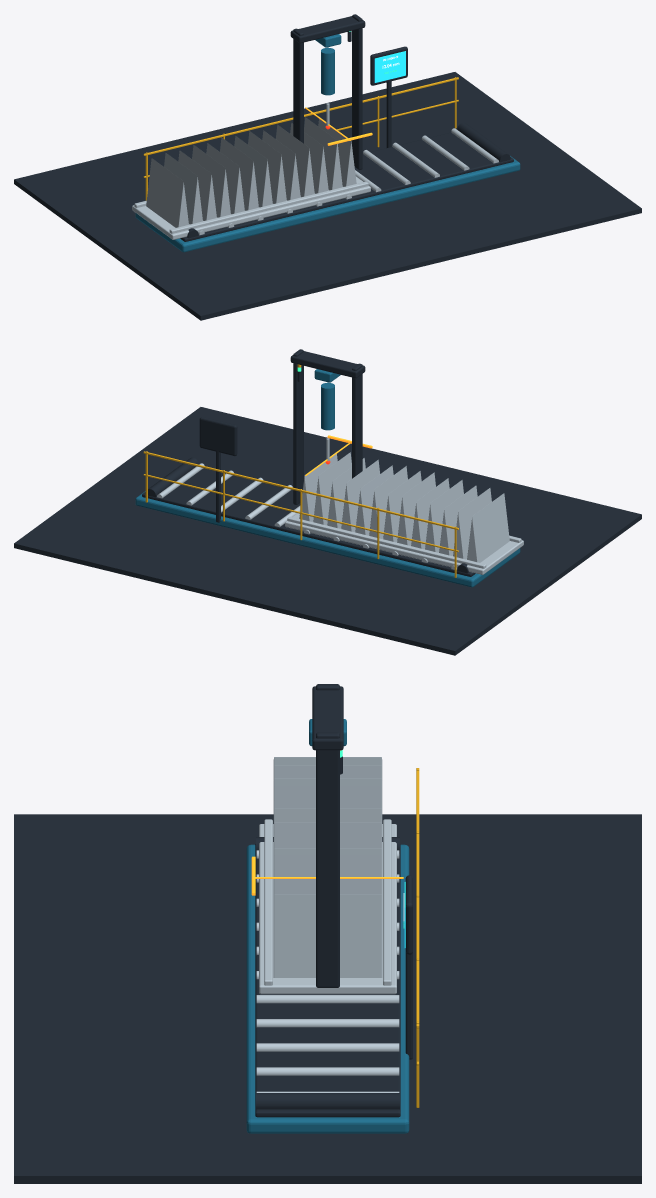
File: contact_lvdt_station.glb
The picture shows the model from 3 angles, top to bottom: view 1: azimuth 30°, elevation 25°; view 2: azimuth 150°, elevation 25°; view 3: azimuth 270°, elevation 25°; orthographic projection. The views are drawn at different scales.
Visible parts, largest first — view 1: Factory floor, Moving belt, Conveyor chassis, Triangular fin 01, Radiator pallet, Fixed C-frame post.001, Front header, Fixed C-frame post, Triangular fin 06, Triangular fin 04, Triangular fin 10, Triangular fin 08 (+14 smaller); view 2: Factory floor, Moving belt, Conveyor chassis, Triangular fin 01, Radiator pallet, Fixed C-frame post.001, HMI housing, Fixed C-frame post, Rear header, Triangular fin 06, Triangular fin 12, Triangular fin 10 (+14 smaller); view 3: Factory floor, Moving belt, Conveyor chassis, Triangular fin 13, Fixed C-frame post.001, Radiator pallet, End roller.001, Fixed measurement crossbeam, Front header, Rear header, Triangular fin 12, Triangular fin 08 (+12 smaller).
Part boxes in pixels (<box>): Factory floor: <box>14,72,641,320</box>; Moving belt: <box>180,132,513,241</box>; Conveyor chassis: <box>135,156,520,252</box>; Triangular fin 01: <box>146,158,188,227</box>; Radiator pallet: <box>132,176,370,239</box>; Fixed C-frame post.001: <box>352,14,362,169</box>; Front header: <box>169,181,368,233</box>; Fixed C-frame post: <box>293,28,303,143</box>; Triangular fin 06: <box>220,137,258,210</box>; Triangular fin 04: <box>192,145,230,217</box>; Triangular fin 10: <box>276,124,314,197</box>; Triangular fin 08: <box>248,131,286,203</box>; Factory floor: <box>14,407,641,655</box>; Moving belt: <box>142,468,475,576</box>; Conveyor chassis: <box>135,491,520,587</box>; Triangular fin 01: <box>467,493,509,562</box>; Radiator pallet: <box>285,511,523,574</box>; Fixed C-frame post.001: <box>293,349,303,504</box>; HMI housing: <box>199,417,237,456</box>; Fixed C-frame post: <box>352,363,362,478</box>; Rear header: <box>287,516,486,568</box>; Triangular fin 06: <box>397,472,435,545</box>; Triangular fin 12: <box>313,452,351,525</box>; Triangular fin 10: <box>341,459,379,532</box>; Factory floor: <box>14,814,641,1183</box>; Moving belt: <box>255,844,400,1117</box>; Conveyor chassis: <box>246,844,409,1133</box>; Triangular fin 13: <box>273,894,382,977</box>; Fixed C-frame post.001: <box>316,732,339,987</box>; Radiator pallet: <box>259,824,396,994</box>; End roller.001: <box>256,1093,399,1109</box>; Fixed measurement crossbeam: <box>312,686,343,750</box>; Front header: <box>264,819,272,985</box>; Rear header: <box>383,819,391,985</box>; Triangular fin 12: <box>273,879,382,896</box>; Triangular fin 08: <box>273,832,382,849</box>.
Bounding box in the file's own units: 30 × 11.35 × 22.
